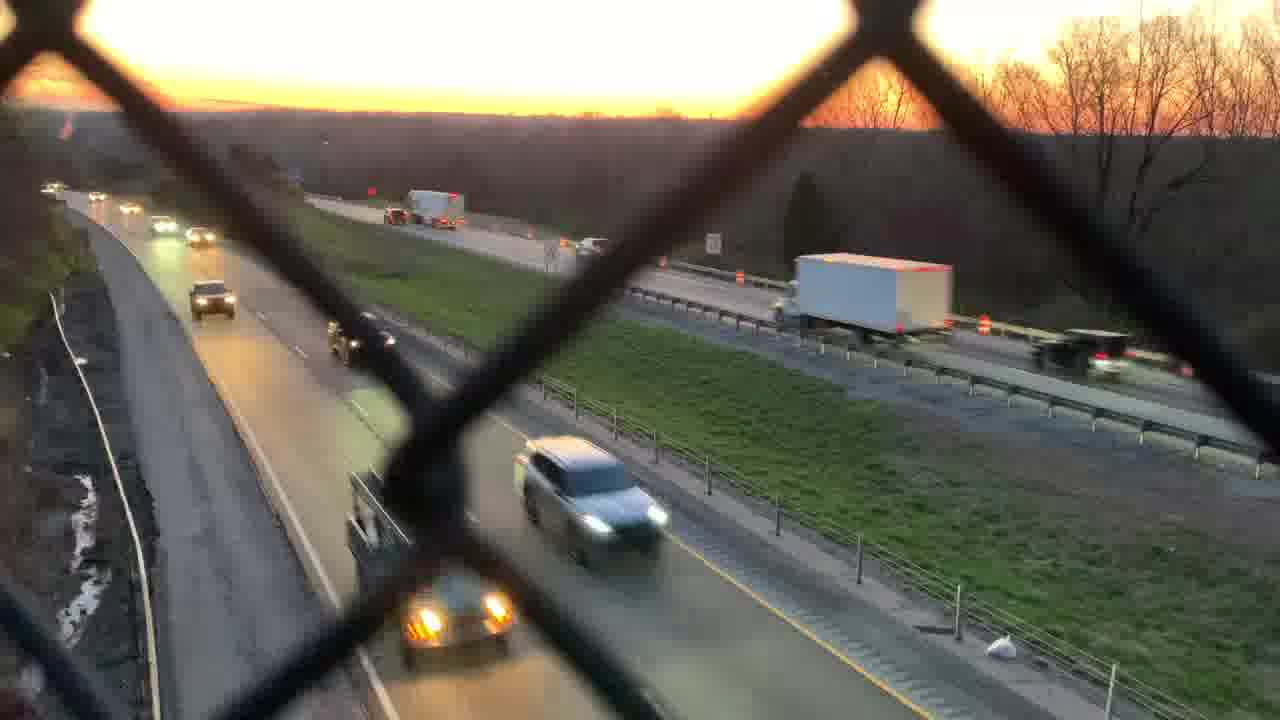heavyTruck: (767, 248, 954, 345)
largeCar: (507, 438, 674, 563), (1026, 327, 1141, 383)
